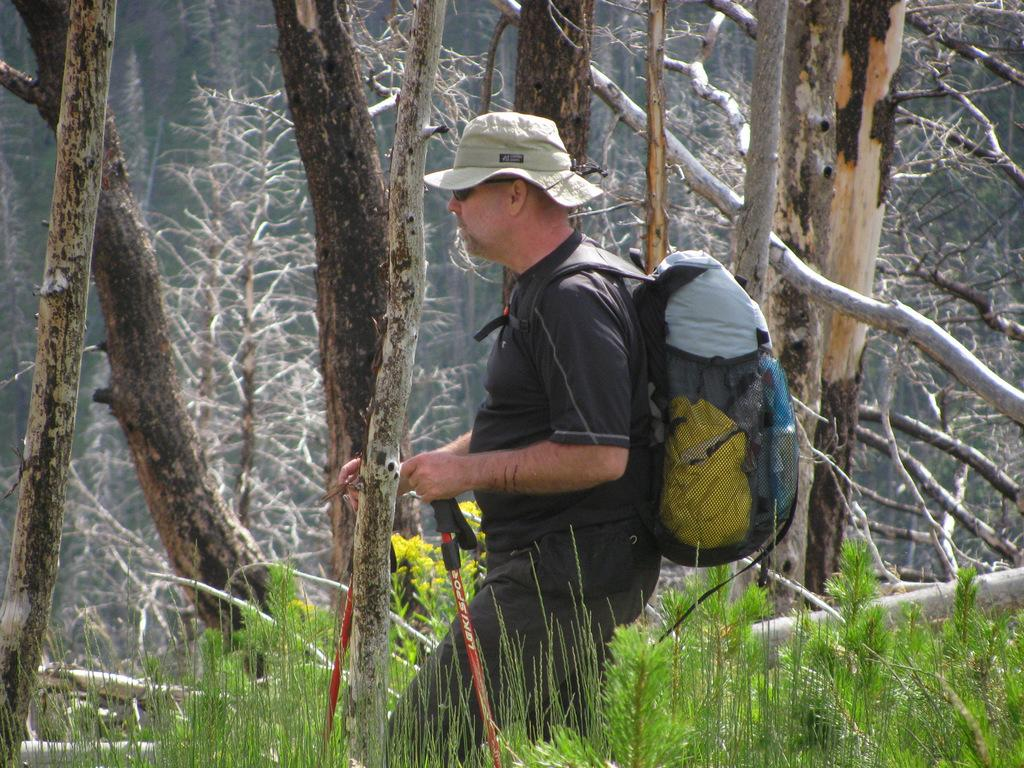Luggage-and-bags: (474, 243, 796, 638)
